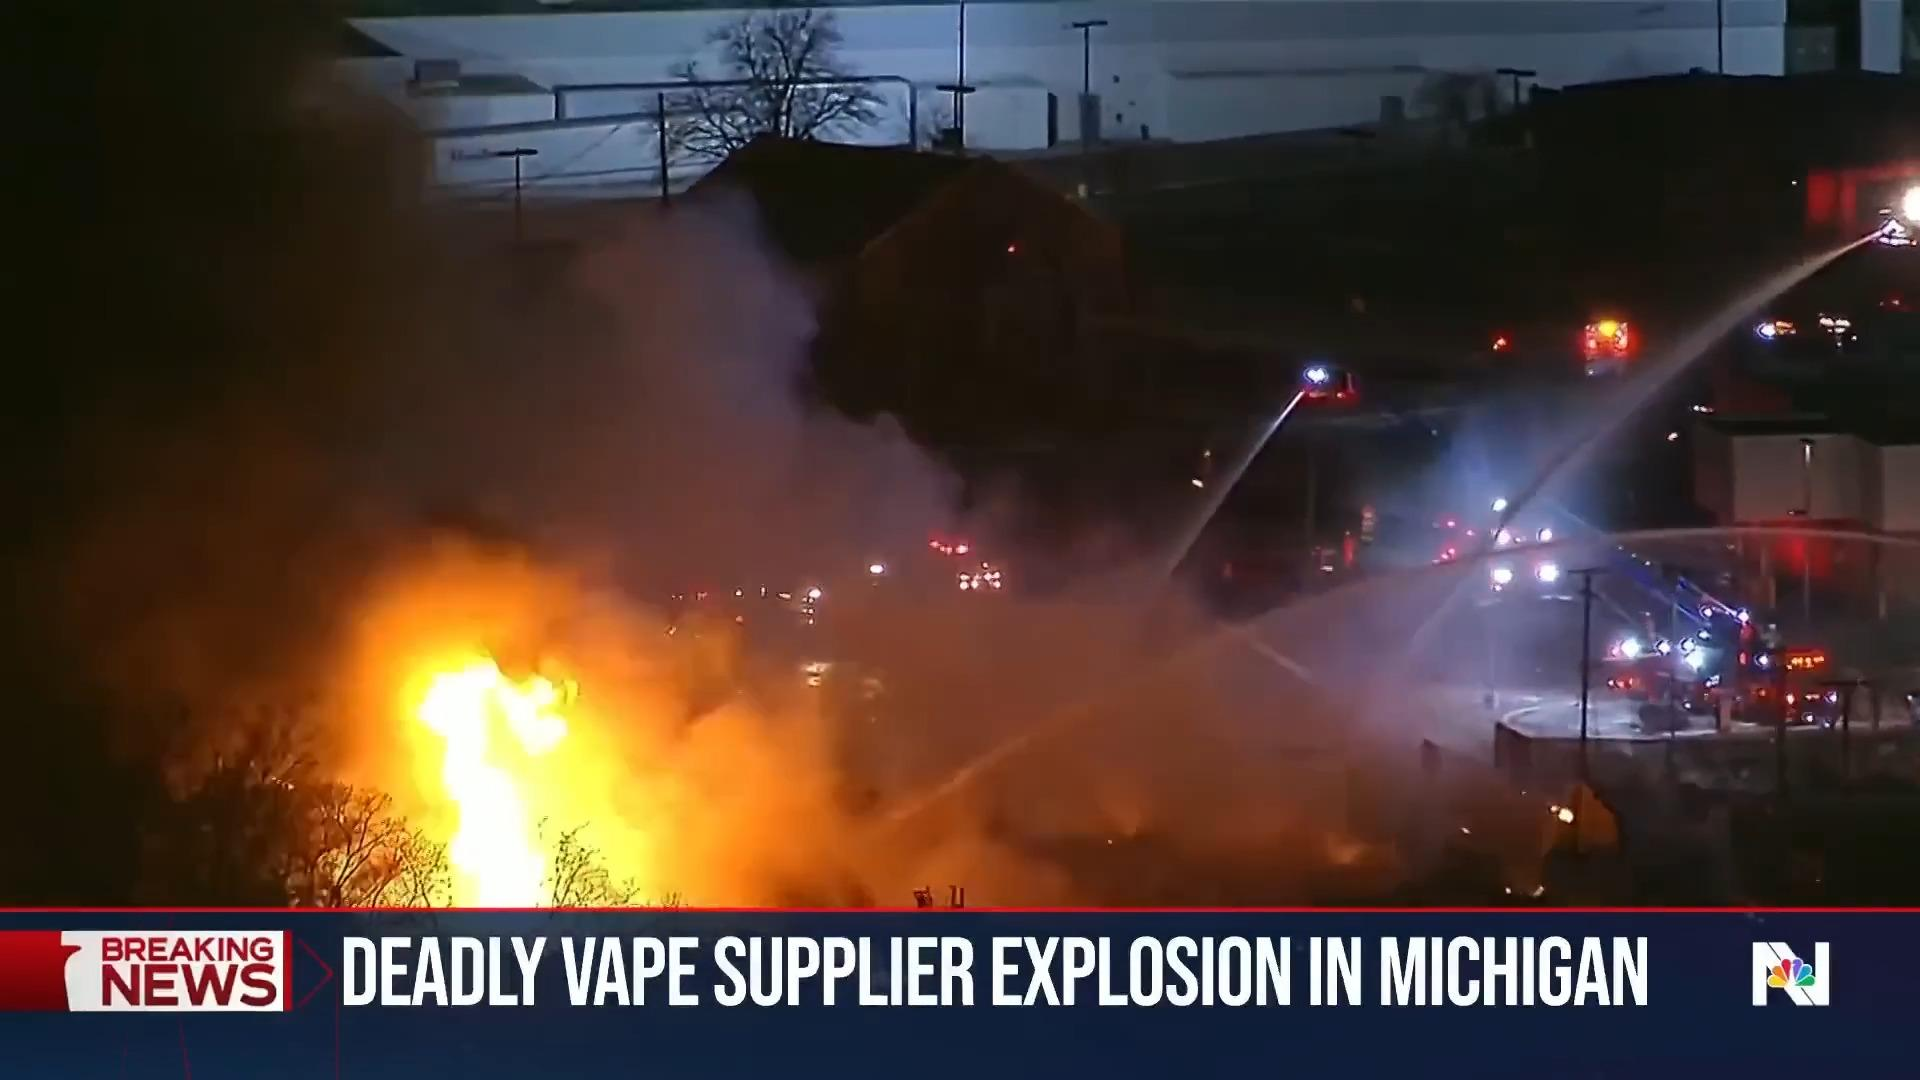fire: (384, 641, 676, 907)
